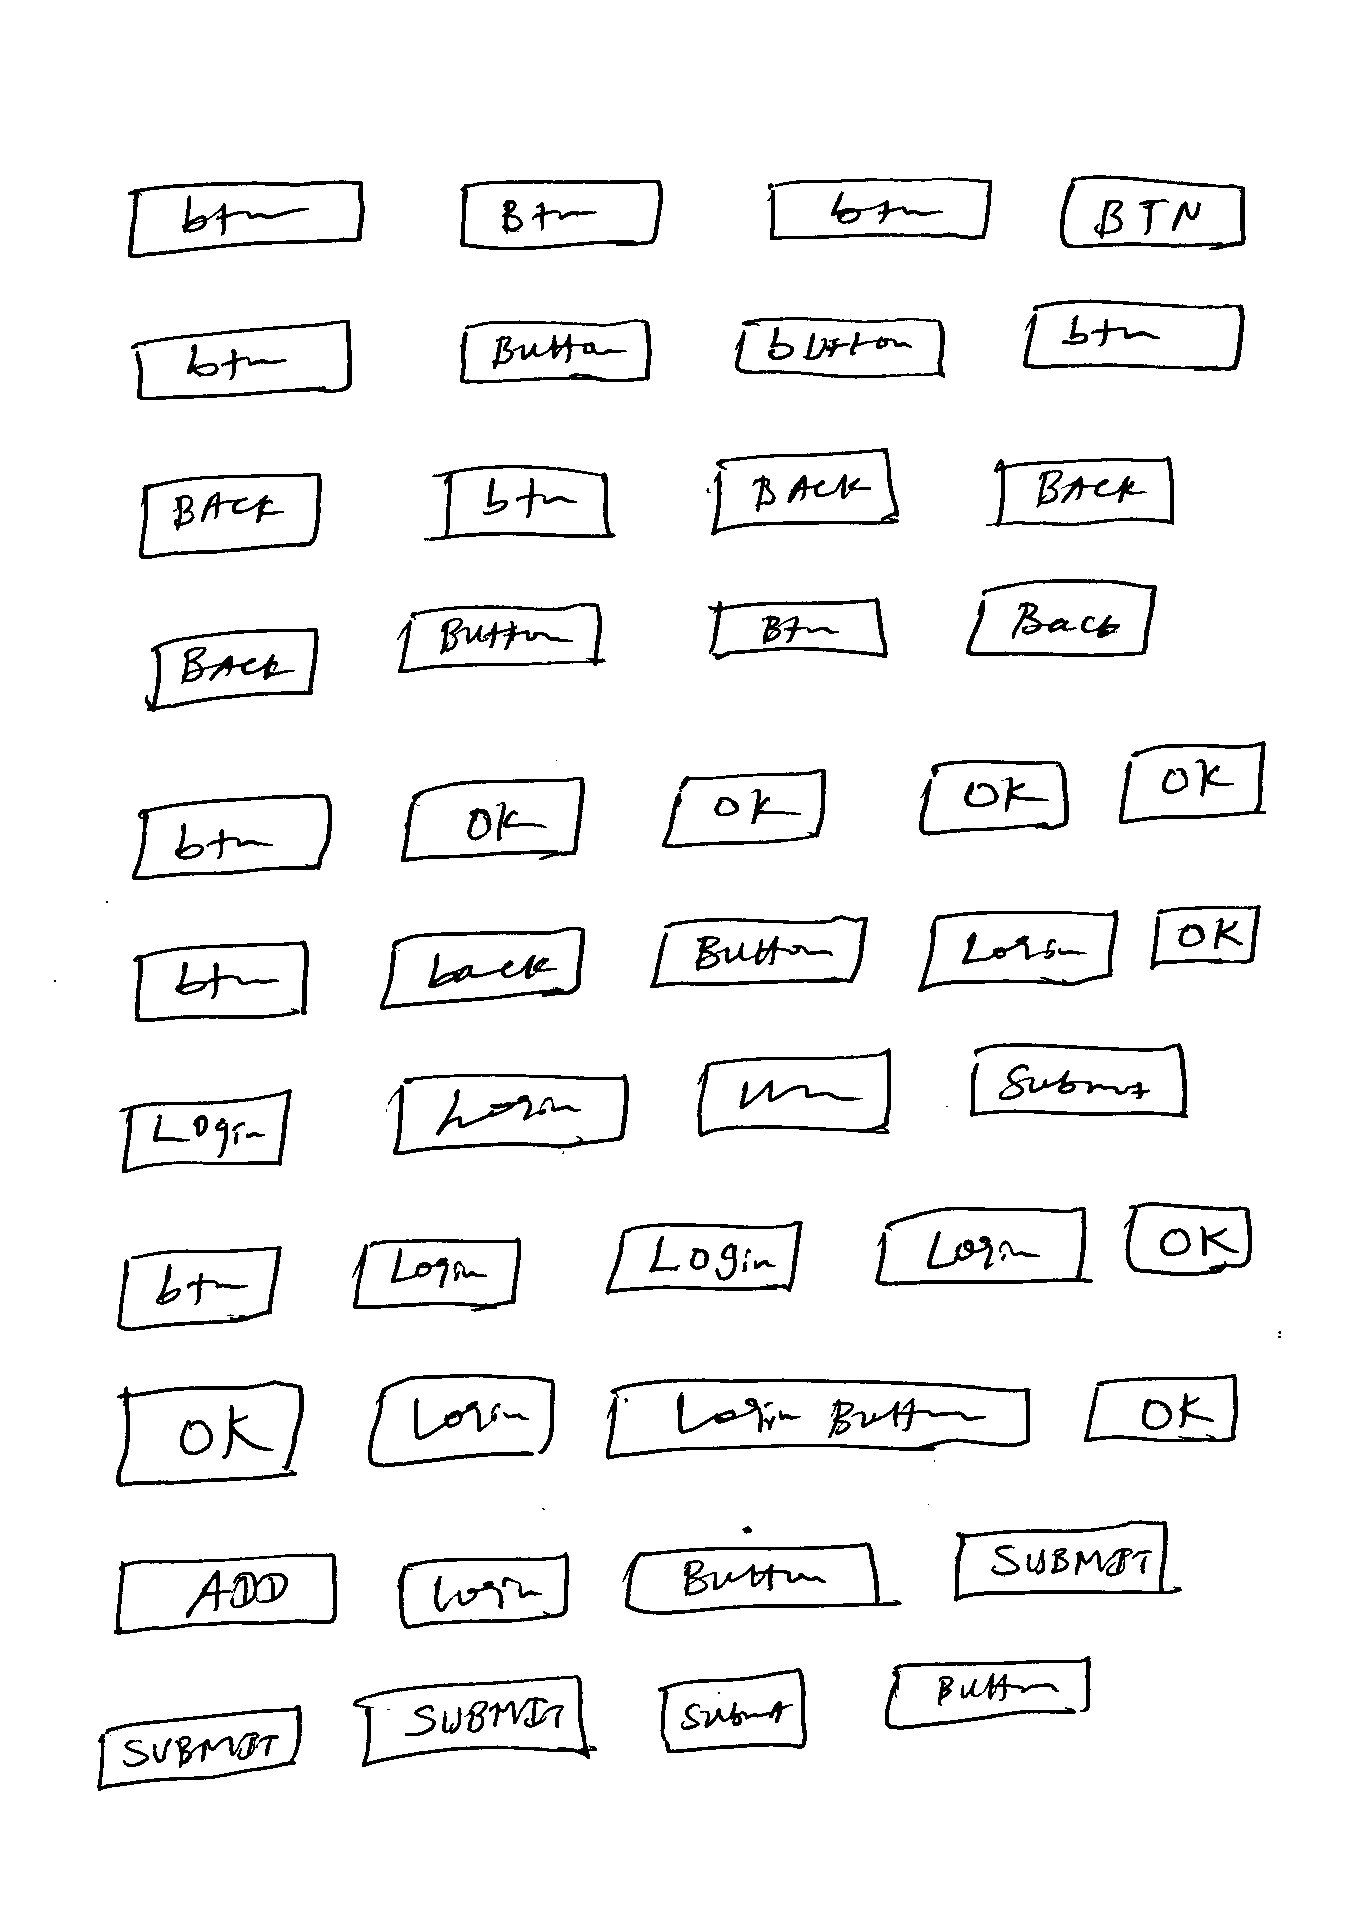Button: (603, 1377, 1033, 1459), (352, 1674, 591, 1767), (112, 1378, 309, 1487), (126, 177, 367, 262), (390, 1072, 630, 1156), (622, 1541, 886, 1616), (112, 1551, 339, 1638), (130, 793, 334, 884), (951, 1518, 1169, 1603), (132, 319, 353, 402), (377, 924, 585, 1011), (96, 1706, 302, 1793), (368, 1374, 557, 1468), (965, 1042, 1192, 1121), (874, 1207, 1091, 1288), (710, 448, 900, 538), (915, 909, 1119, 994), (649, 912, 868, 991), (696, 1053, 894, 1138), (398, 775, 588, 863), (1020, 299, 1245, 373), (137, 472, 322, 560), (881, 1656, 1094, 1731), (965, 577, 1158, 658), (132, 939, 312, 1025), (120, 1087, 294, 1174), (767, 176, 993, 242), (458, 179, 665, 251), (603, 1221, 801, 1297), (115, 1245, 282, 1334), (1060, 172, 1248, 250), (435, 464, 614, 544), (659, 767, 829, 850), (396, 1552, 574, 1631), (990, 455, 1177, 529), (457, 318, 653, 387), (733, 316, 948, 380), (350, 1236, 523, 1311), (1118, 739, 1267, 827), (658, 1669, 810, 1754), (705, 597, 888, 662), (917, 759, 1070, 835), (1124, 1201, 1252, 1276), (1147, 903, 1260, 970)
